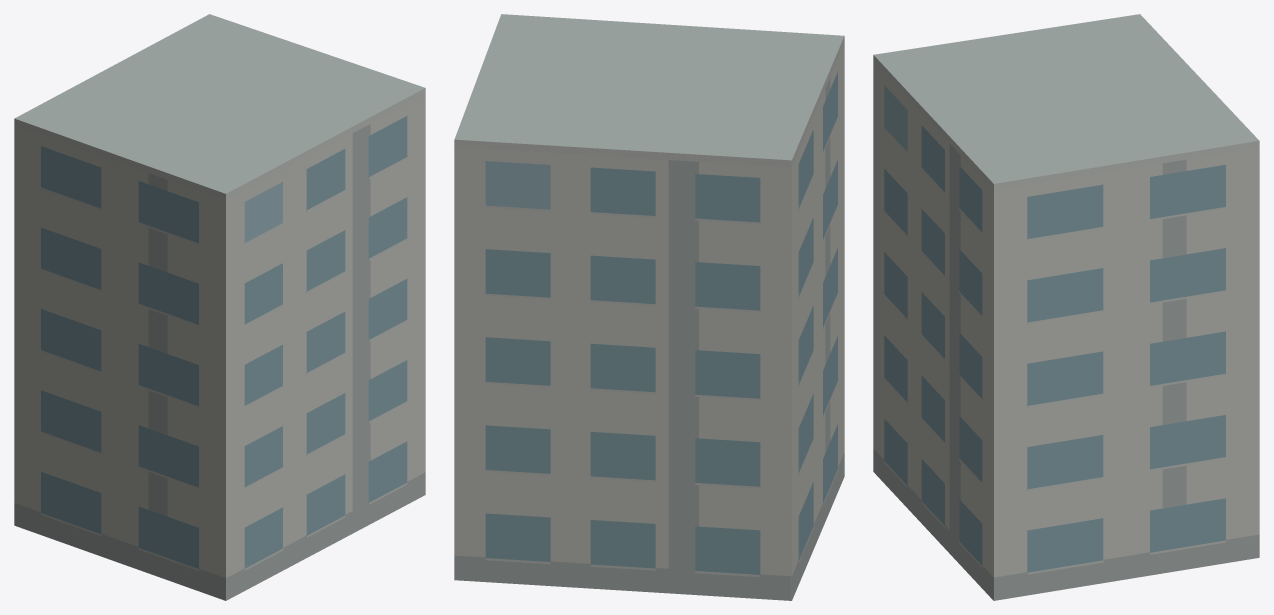
The model's file is survey-upis-32710115.glb.
3 views of the same model, side by side, from view 1: azimuth 30°, elevation 25°; view 2: azimuth 150°, elevation 25°; view 3: azimuth 270°, elevation 25° (orthographic). The views are drawn at different scales.
Visible parts, largest first — view 1: survey-upis-32710115.tmp; view 2: survey-upis-32710115.tmp; view 3: survey-upis-32710115.tmp.
Boxes of the visible parts, left/top/right/bottom form: survey-upis-32710115.tmp: left=14, top=14, right=425, bottom=600; survey-upis-32710115.tmp: left=454, top=14, right=844, bottom=600; survey-upis-32710115.tmp: left=873, top=14, right=1259, bottom=600.
Bounding box in the file's own units: 12.81 × 14.65 × 12.3.
